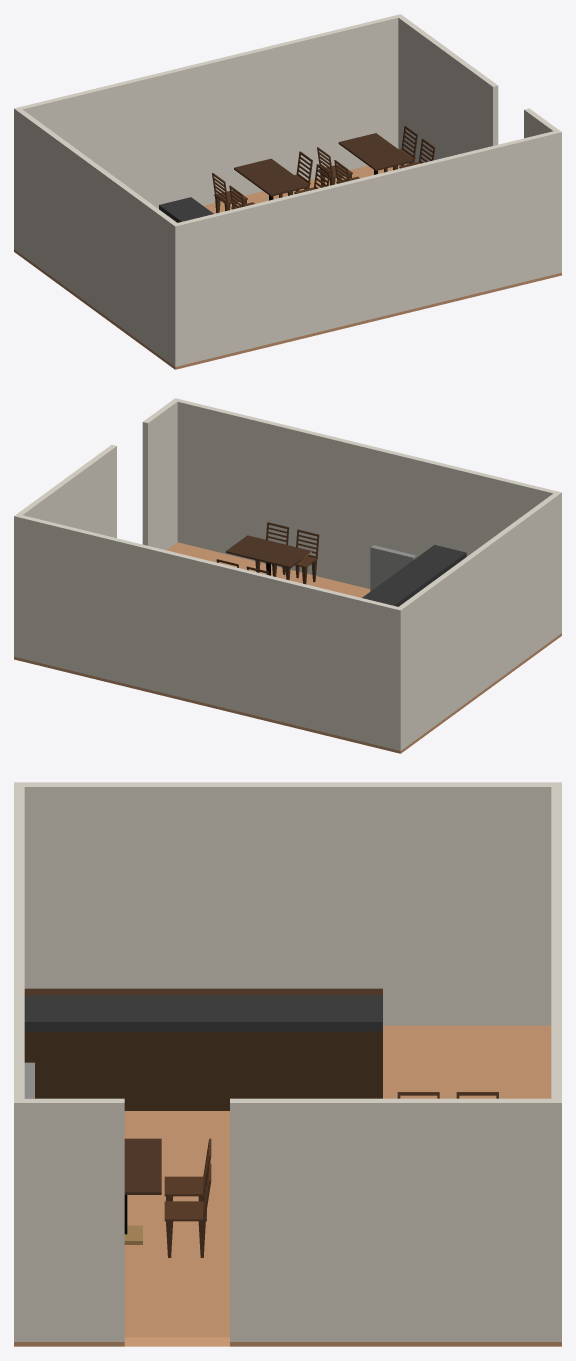
Rendered from cafe1.dae.
The picture shows the model from 3 angles, top to bottom: view 1: azimuth 30°, elevation 25°; view 2: azimuth 150°, elevation 25°; view 3: azimuth 270°, elevation 25°; orthographic projection. The views are drawn at different scales.
Parts seen in each view (by area): view 1: wall, floor, table1, table3, counter, chair1_1, chair3_1; view 2: wall, floor, counter, table2, chair2_1; view 3: wall, counter, floor, table2, chair2_3, chair2_4.
Part boxes in pixels (x1=…): wall: x1=14, y1=14, x2=561, y2=366; floor: x1=14, y1=164, x2=561, y2=369; table1: x1=234, y1=158, x2=308, y2=200; table3: x1=338, y1=133, x2=413, y2=174; counter: x1=159, y1=197, x2=213, y2=222; chair1_1: x1=212, y1=173, x2=247, y2=213; chair3_1: x1=317, y1=147, x2=352, y2=187; wall: x1=14, y1=398, x2=561, y2=750; floor: x1=14, y1=542, x2=561, y2=753; counter: x1=362, y1=545, x2=466, y2=606; table2: x1=226, y1=535, x2=311, y2=575; chair2_1: x1=285, y1=529, x2=319, y2=584; wall: x1=14, y1=782, x2=561, y2=1341; counter: x1=24, y1=988, x2=382, y2=1110; floor: x1=14, y1=1025, x2=561, y2=1346; table2: x1=124, y1=1138, x2=161, y2=1244; chair2_3: x1=164, y1=1163, x2=211, y2=1257; chair2_4: x1=164, y1=1138, x2=211, y2=1201.
Bounding box in the file's own units: 7.2 × 5.2 × 2.55.
